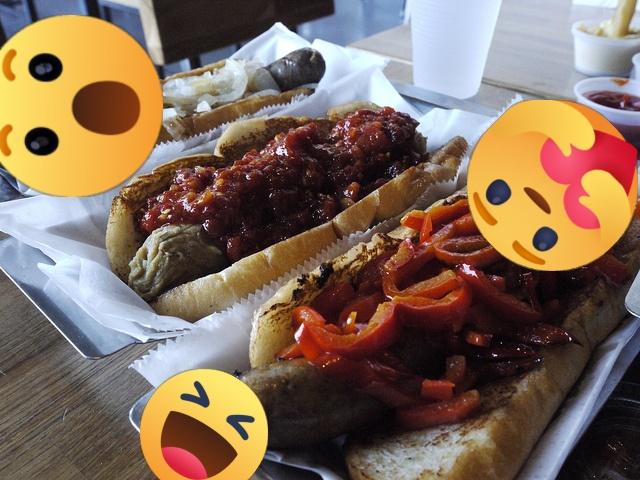care: (467, 100, 638, 271)
haha: (140, 369, 268, 480)
wow: (0, 15, 163, 197)
